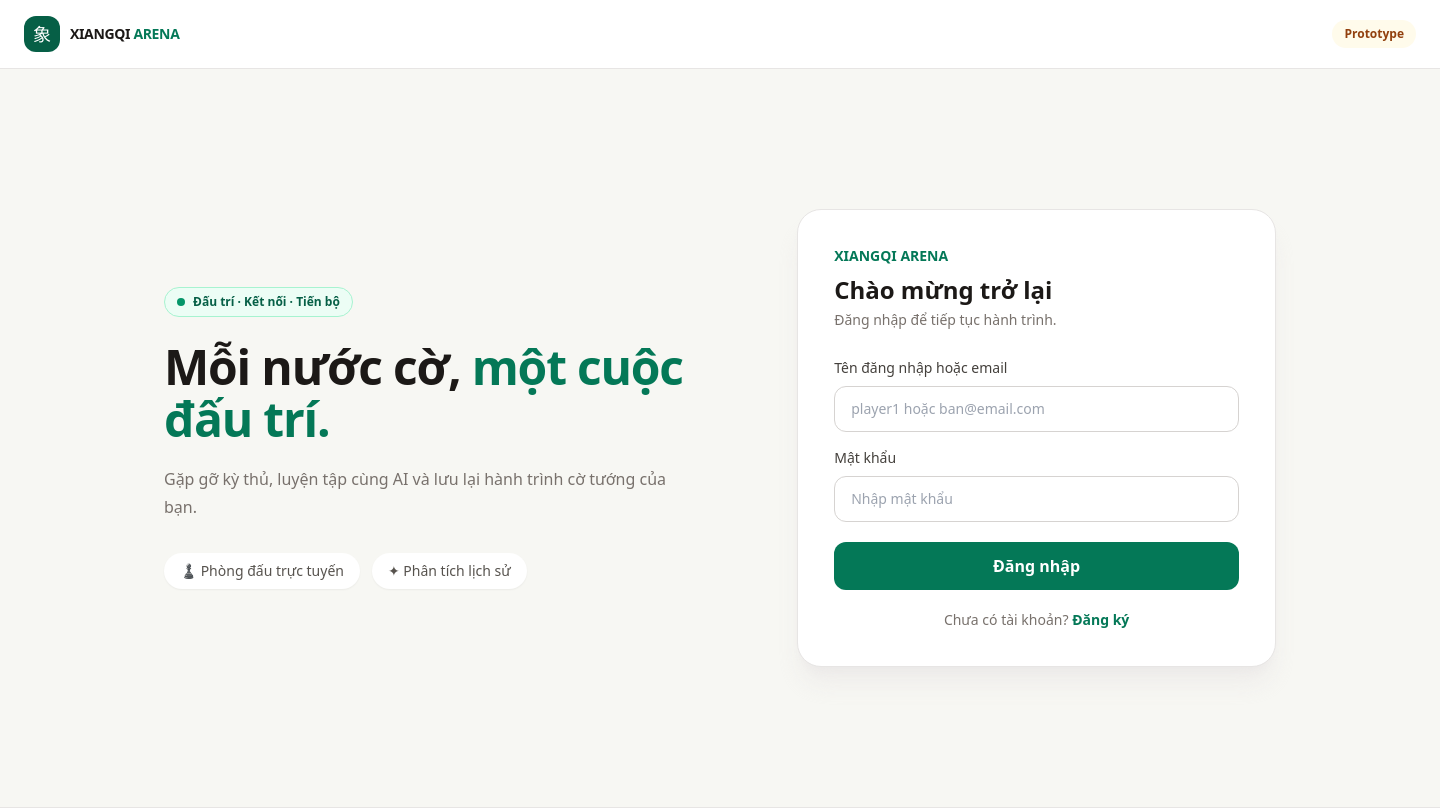
Test case: XQA-61 screen flow prototype › opens the Admin screen
Type "player1" into the field labelled "Tên đăng nhập hoặc email" at (1037, 409), box 834,386 -> 1239,432
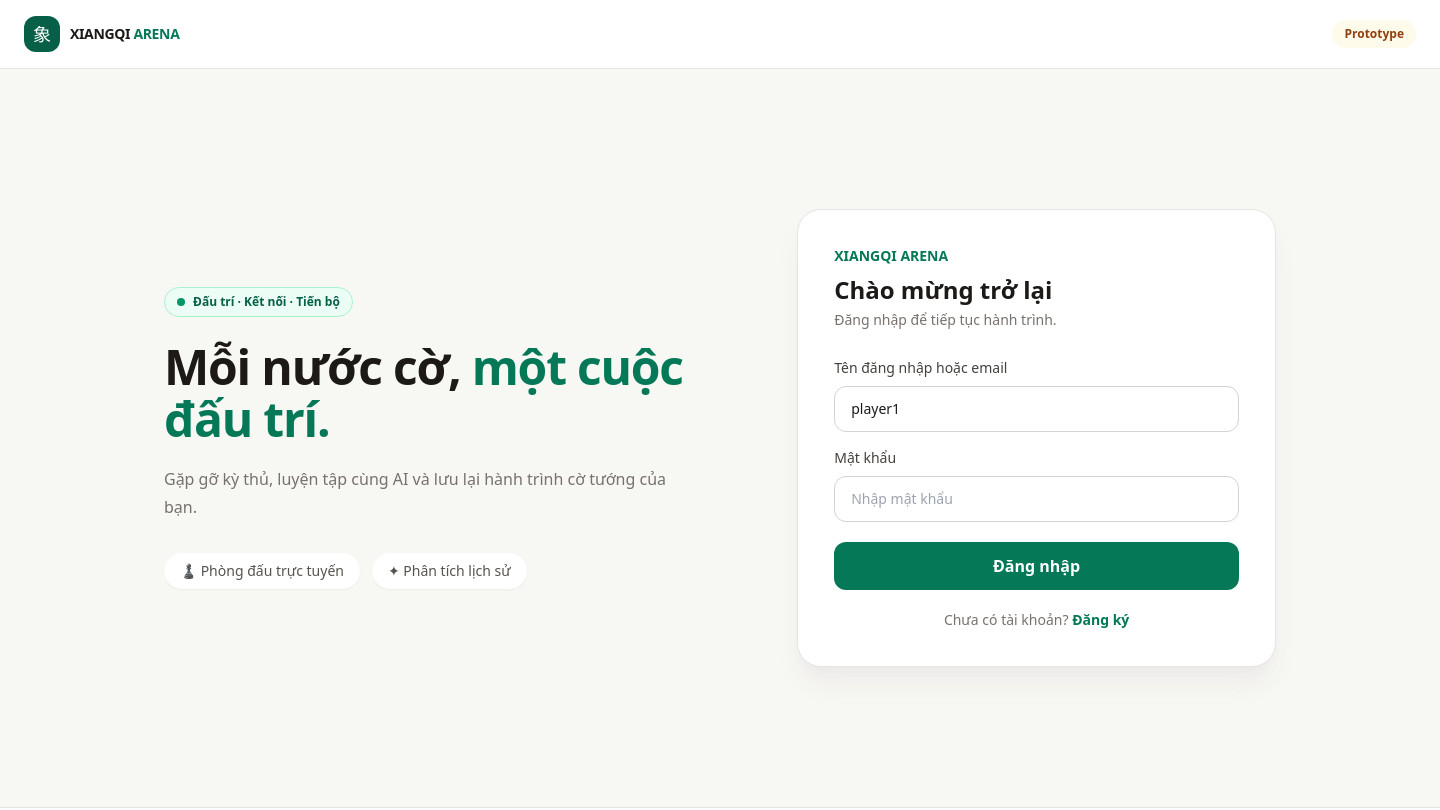
Type "demo-password" into the password field labelled "Mật khẩu" at (1037, 499), box 834,476 -> 1239,522
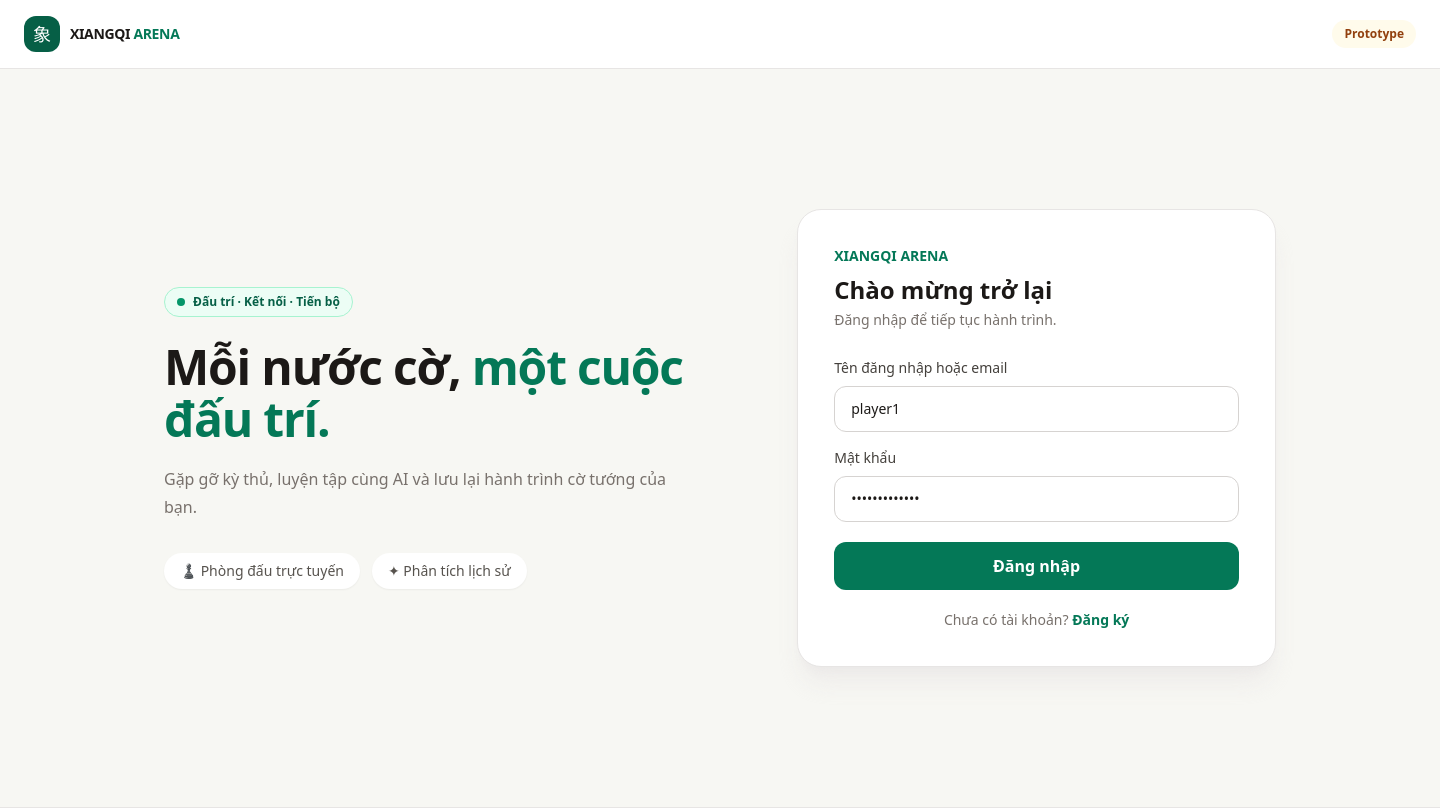
Click the button "Đăng nhập" at (1037, 566), box 834,542 -> 1239,590
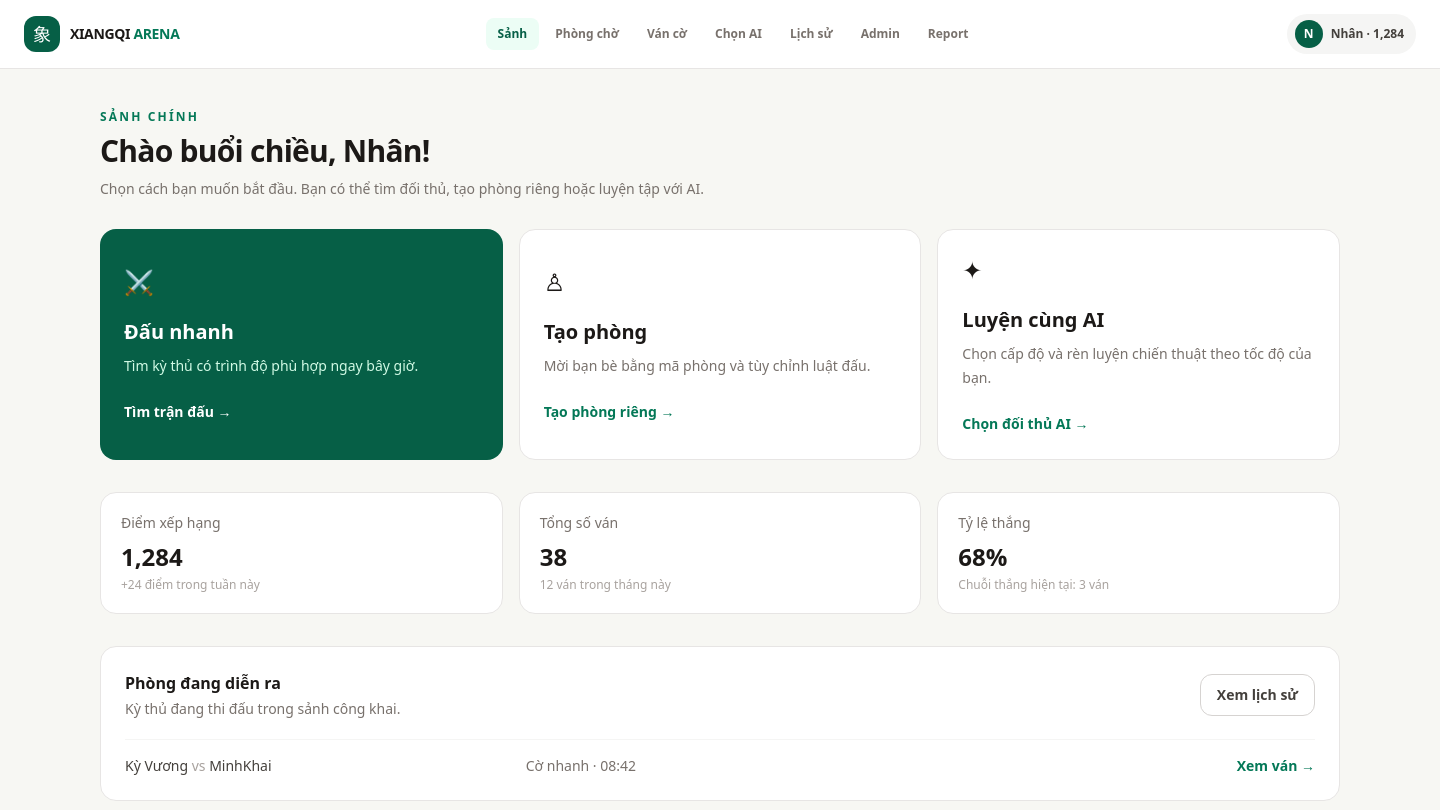
Click the button "Admin" at (880, 34), box 849,18 -> 912,50
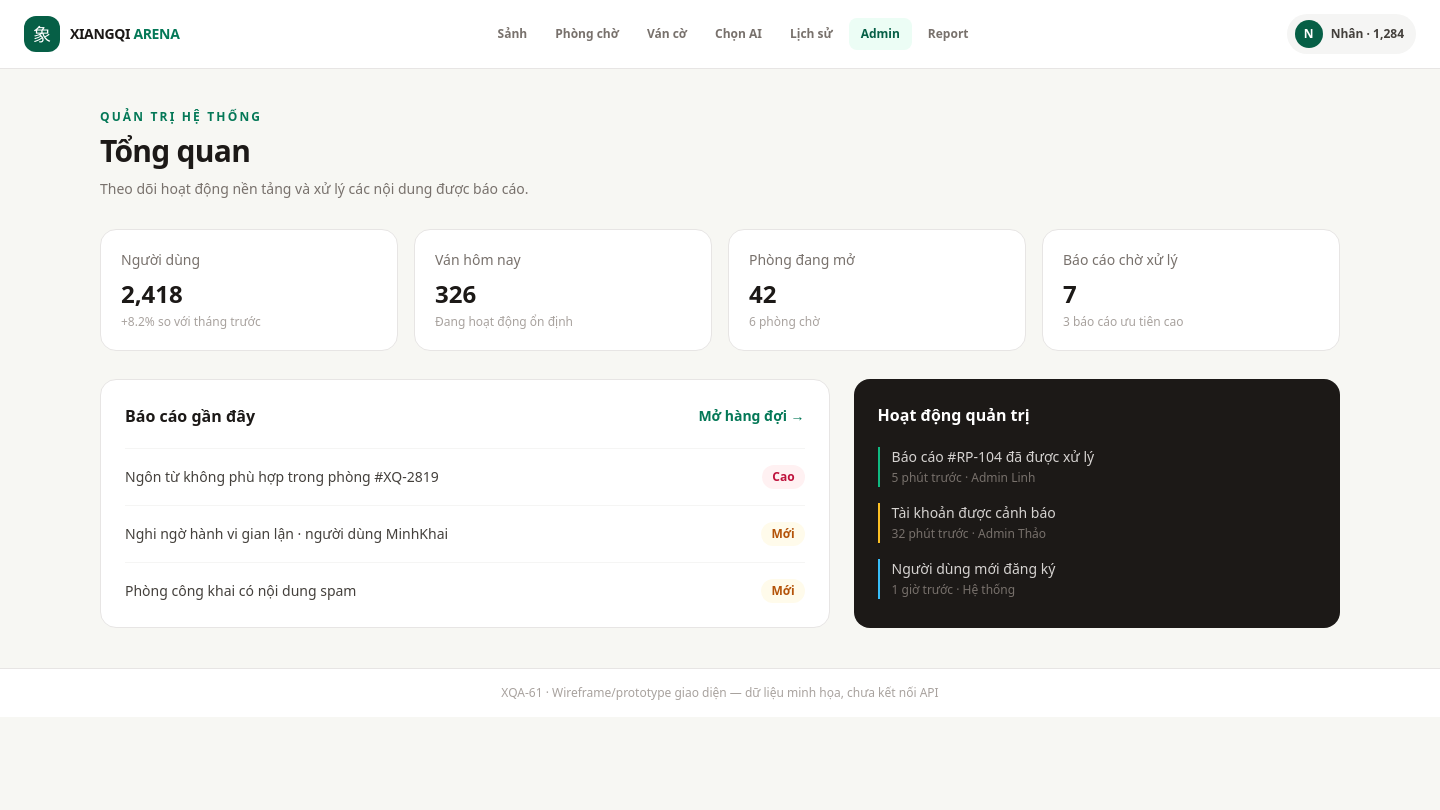
Expected: the heading "Tổng quan" is shown, 100,130 -> 250,171
